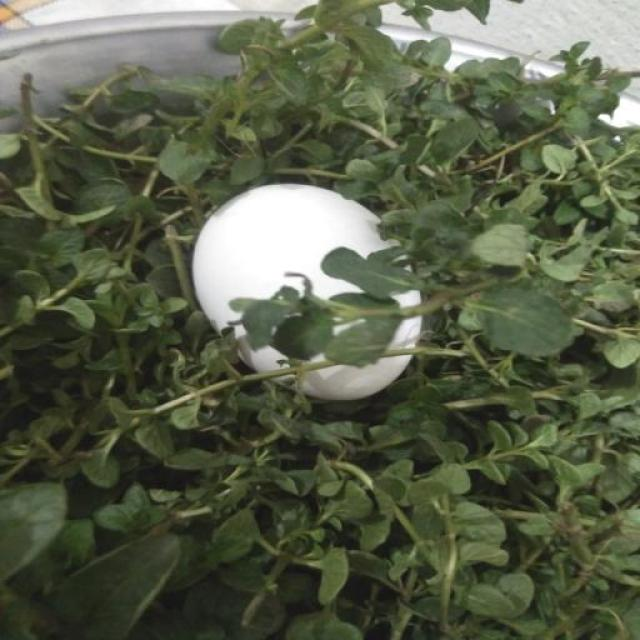telur: (192, 184, 420, 399)
